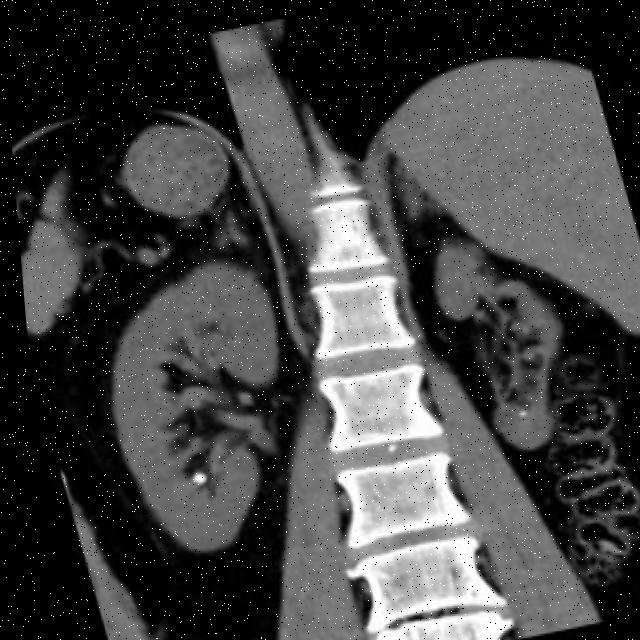Tas_Var: (177, 459, 204, 487), (507, 397, 526, 415)
